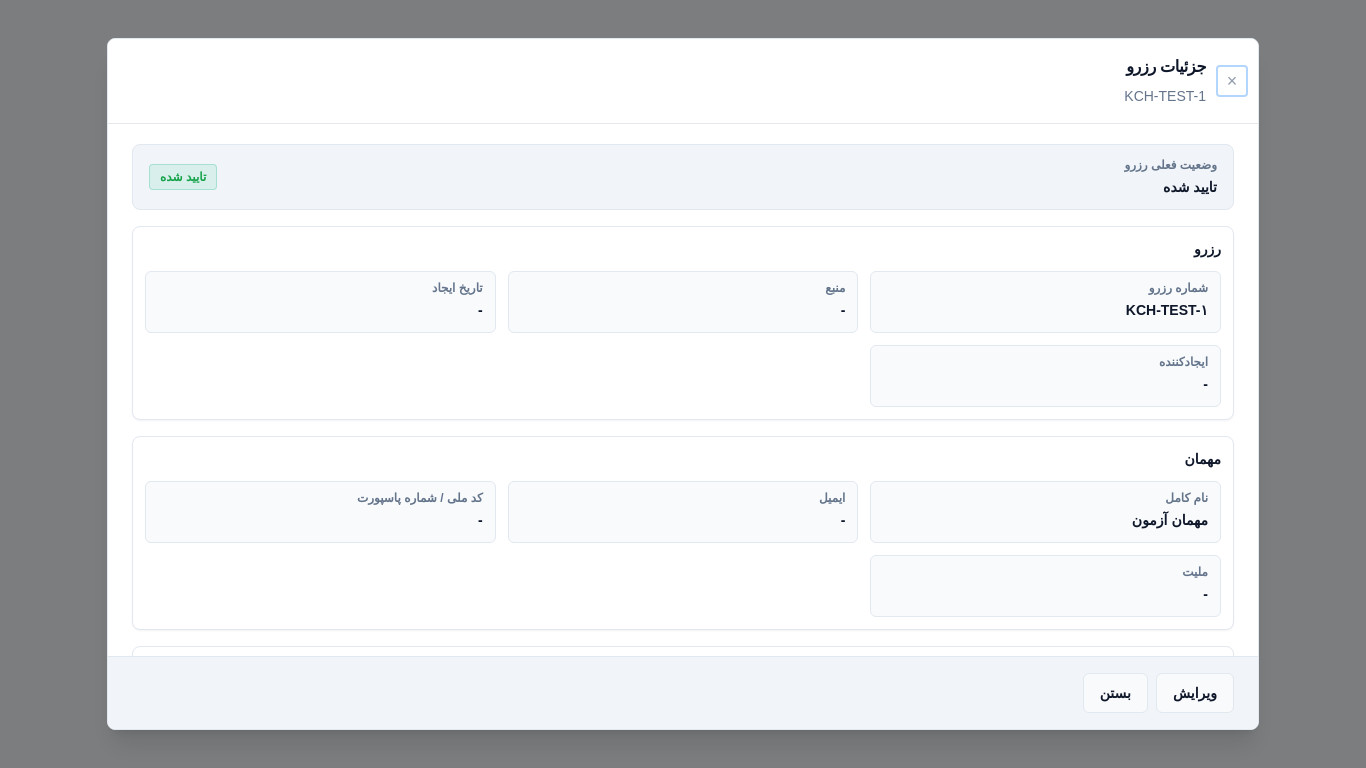
Test: reservation hardening › preserves the confirmed reservation edit warning
What coordinates should you click on to do the following:
click the button "ویرایش"
I would click on:
 (1195, 693)
Its box is x1=1156 y1=673 x2=1234 y2=713.
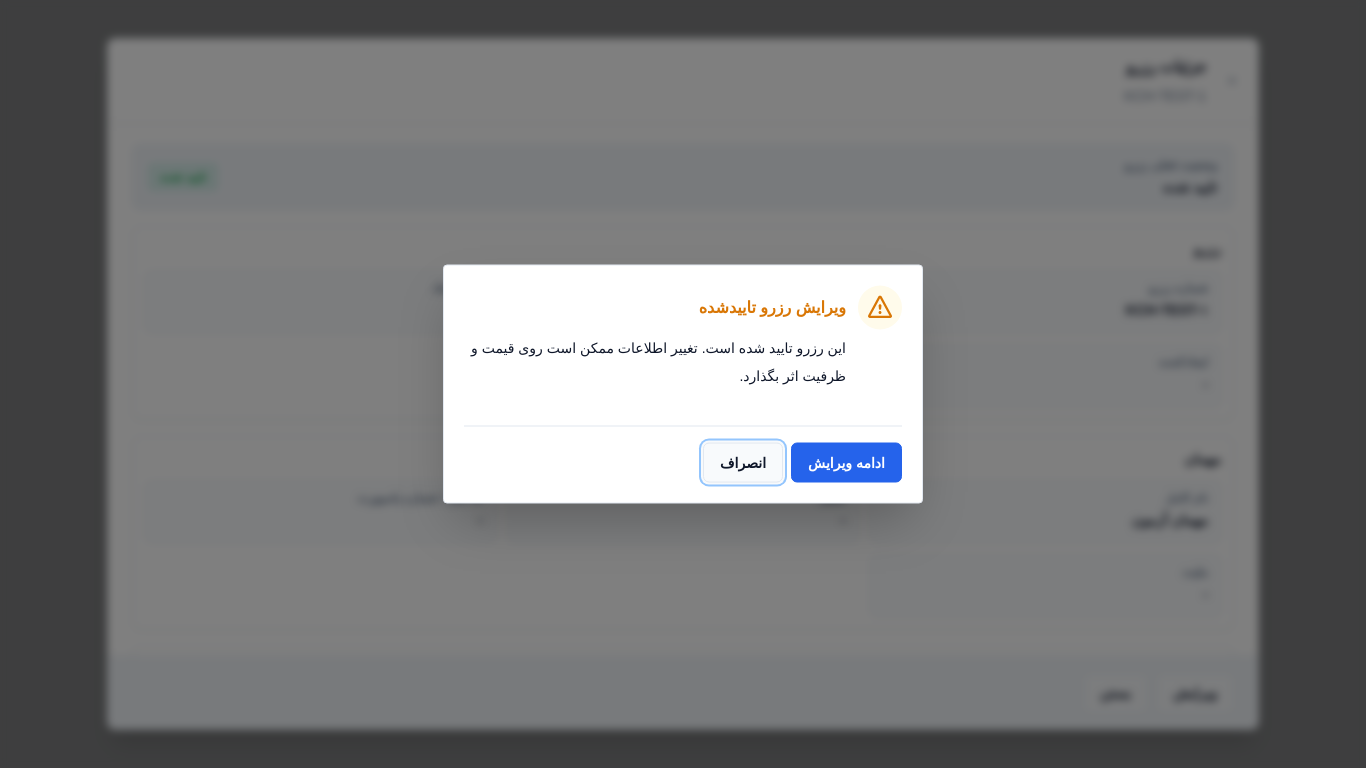
Result: the dialog "ویرایش رزرو تاییدشده" is shown at x1=443 y1=264 x2=923 y2=504
